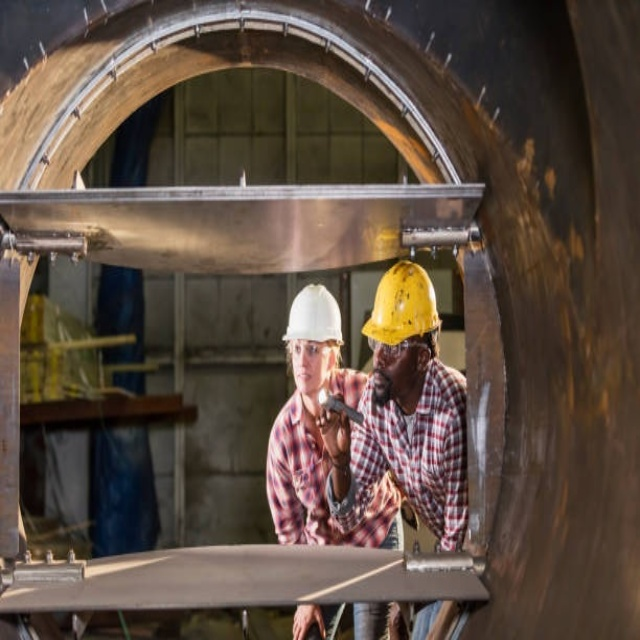Gafas: (370, 338, 421, 364), (290, 342, 333, 360)
Sin_guantes: (314, 396, 351, 465), (292, 603, 326, 640)
Sin_mascara: (371, 365, 392, 397), (296, 364, 316, 386)
